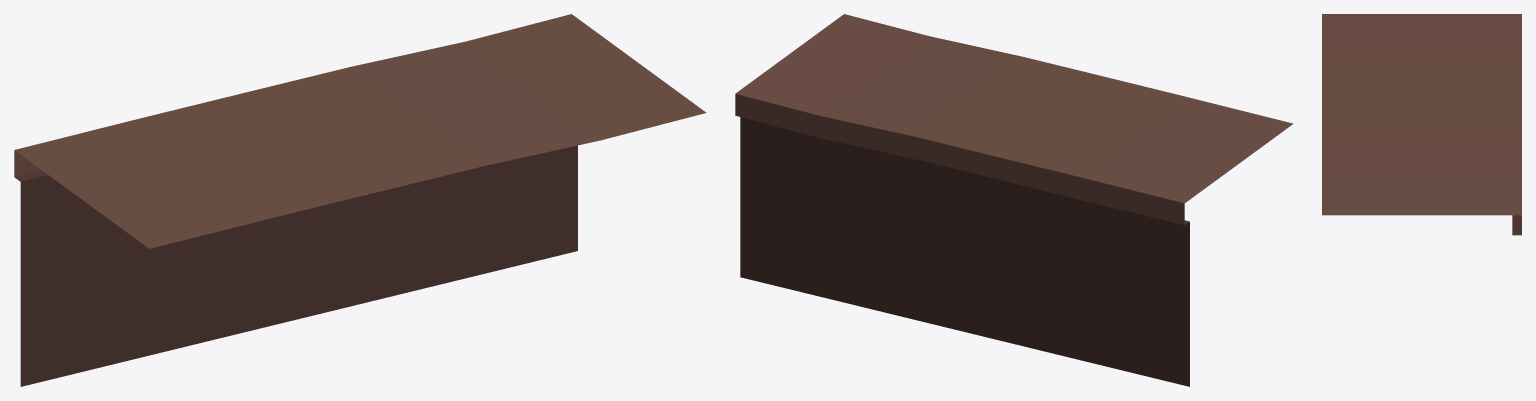
The model's file is Ground_3.fbx.
3 views of the same model, side by side, from view 1: azimuth 30°, elevation 25°; view 2: azimuth 150°, elevation 25°; view 3: azimuth 270°, elevation 25° (orthographic). The views are drawn at different scales.
Visible parts, largest first — view 1: Ground_3; view 2: Ground_3; view 3: Ground_3.
Part boxes in pixels (box(x1,y1,x2,y2)): Ground_3: box(14, 14, 706, 386); Ground_3: box(735, 14, 1293, 386); Ground_3: box(1322, 14, 1521, 235).
Size of the model in its own units: 500 by 200 by 210.
Materials: 1 (1 with a texture image).
